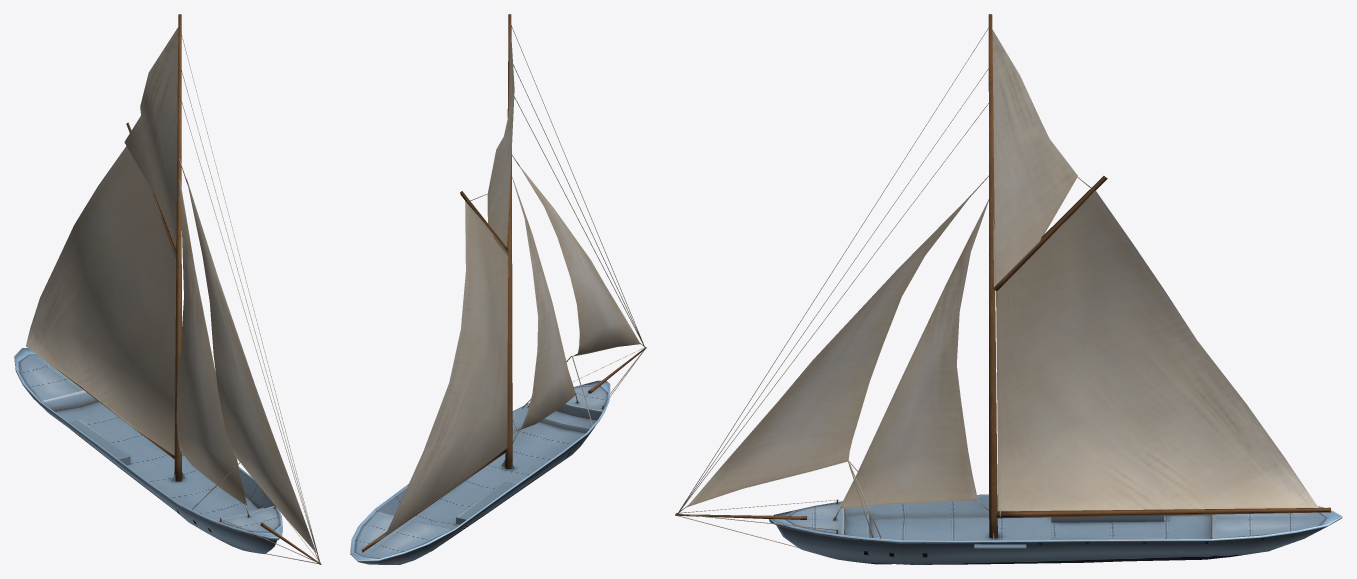
Rendered from SailBoat_B.fbx.
3 views of the same model, side by side, from view 1: azimuth 30°, elevation 25°; view 2: azimuth 150°, elevation 25°; view 3: azimuth 270°, elevation 25° (orthographic). The views are drawn at different scales.
Parts seen in each view (by area): view 1: SailBoat_B; view 2: SailBoat_B; view 3: SailBoat_B.
Part boxes in pixels (box(x1,y1,x2,y2)): SailBoat_B: box(14, 14, 321, 564); SailBoat_B: box(350, 14, 646, 564); SailBoat_B: box(675, 14, 1342, 564).
Size of the model in its own units: 10.8 by 56.52 by 62.24.
